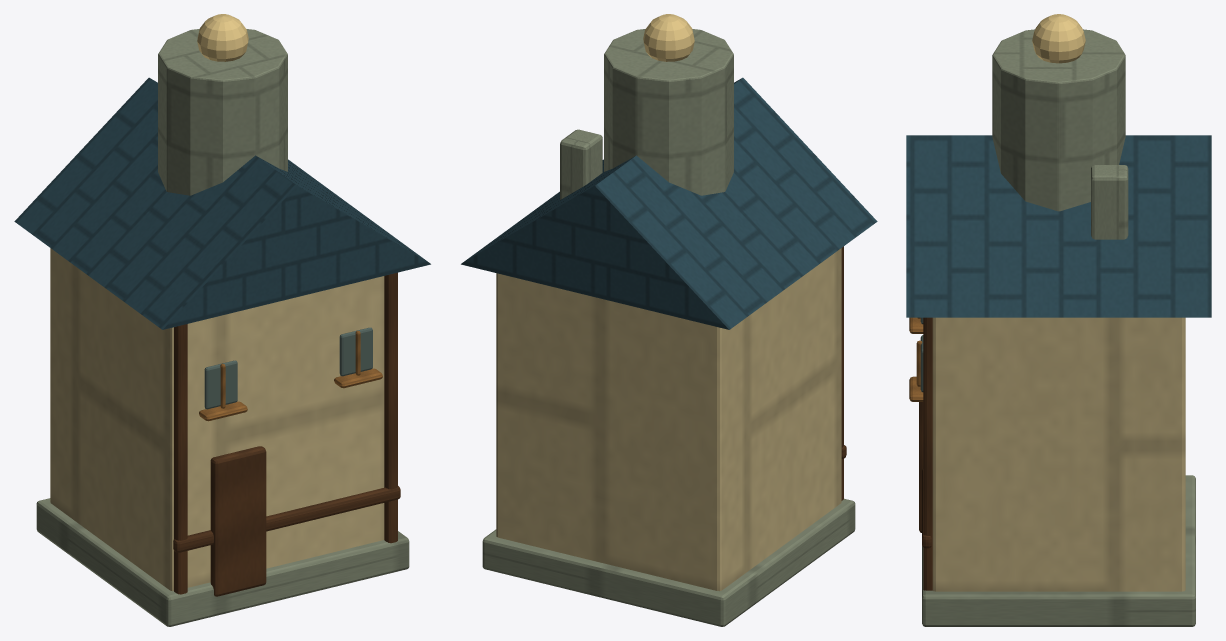
File: academy.glb
The picture shows the model from 3 angles, left to right: view 1: azimuth 30°, elevation 25°; view 2: azimuth 150°, elevation 25°; view 3: azimuth 270°, elevation 25°; orthographic projection. The views are drawn at different scales.
Parts seen in each view (by area): view 1: plaster, gable_roof, observatory, foundation, door, timber_corner, timber_corner.001, beam, brass_orb, window_inset.001, window_inset; view 2: plaster, gable_roof, observatory, foundation, chimney, brass_orb, timber_corner; view 3: plaster, gable_roof, observatory, foundation, chimney, timber_corner.001, brass_orb, door.
Part boxes in pixels (box(x1,y1,x2,y2)): plaster: box(50, 248, 384, 591); gable_roof: box(14, 77, 430, 329); observatory: box(158, 29, 287, 195); foundation: box(36, 498, 409, 626); door: box(210, 446, 266, 596); timber_corner: box(174, 324, 187, 594); timber_corner.001: box(384, 272, 397, 543); beam: box(173, 486, 400, 552); brass_orb: box(197, 14, 248, 61); window_inset.001: box(339, 327, 372, 376); window_inset: box(204, 360, 237, 409); plaster: box(496, 248, 841, 591); gable_roof: box(461, 77, 877, 329); observatory: box(604, 29, 733, 195); foundation: box(482, 498, 855, 626); chimney: box(560, 129, 602, 199); brass_orb: box(643, 14, 694, 61); timber_corner: box(841, 246, 843, 500); plaster: box(932, 317, 1185, 591); gable_roof: box(906, 135, 1211, 317); observatory: box(992, 29, 1125, 211); foundation: box(922, 475, 1195, 626); chimney: box(1091, 165, 1128, 239); timber_corner.001: box(923, 317, 932, 590); brass_orb: box(1032, 14, 1085, 63); door: box(919, 402, 923, 532).
Size of the model in its own units: 2.15 by 4.08 by 2.05.
Materials: 7 (5 with a texture image).
